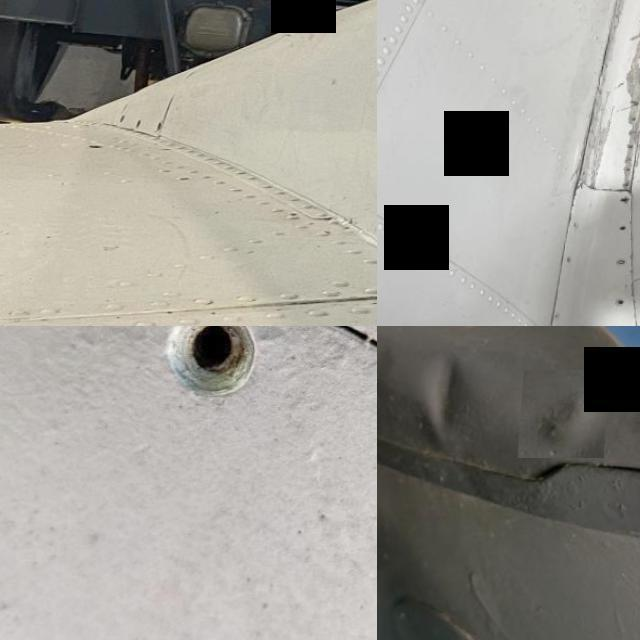Crack: (587, 31, 618, 102), (574, 133, 597, 204)
Dent: (408, 342, 502, 454), (523, 370, 613, 458)
Missing_Fastener: (125, 326, 293, 438), (622, 298, 629, 306), (623, 197, 632, 203), (570, 256, 576, 264), (624, 226, 630, 232), (631, 144, 637, 150), (628, 182, 634, 187), (560, 313, 564, 320), (633, 117, 640, 121), (634, 101, 640, 105), (630, 167, 634, 171)
